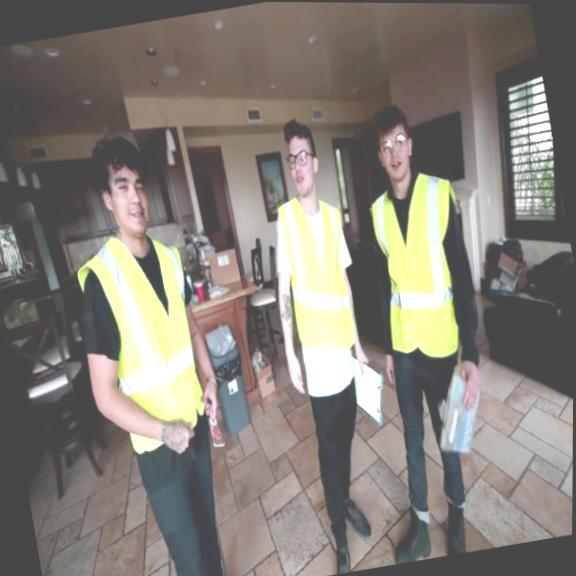safety_vest: (67, 227, 214, 459), (363, 167, 485, 364), (272, 189, 364, 355)
